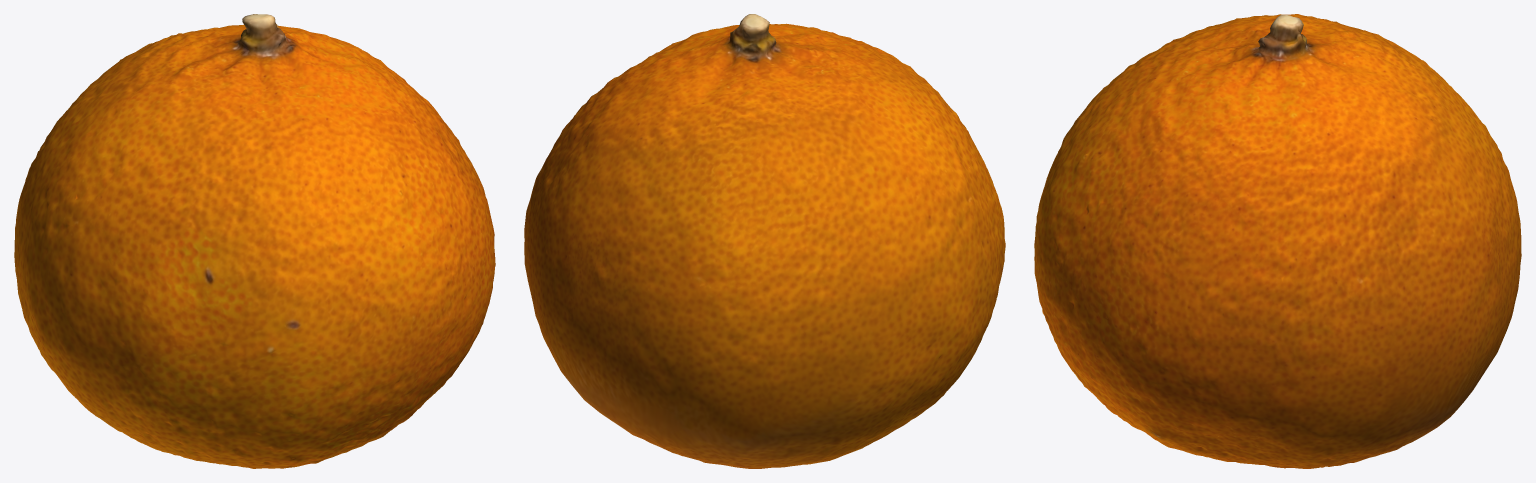
File: orange.glb
The picture shows the model from 3 angles, left to right: view 1: azimuth 30°, elevation 25°; view 2: azimuth 150°, elevation 25°; view 3: azimuth 270°, elevation 25°; orthographic projection. The views are drawn at different scales.
Visible parts, largest first — view 1: ObjectCapture_5; view 2: ObjectCapture_5; view 3: ObjectCapture_5.
Part boxes in pixels (bbox=[...]): ObjectCapture_5: bbox=[14, 14, 495, 468]; ObjectCapture_5: bbox=[524, 14, 1005, 468]; ObjectCapture_5: bbox=[1034, 14, 1521, 468].
Size of the model in its own units: 1.58 by 1.47 by 1.56.
Materials: 1 (1 with a texture image).
